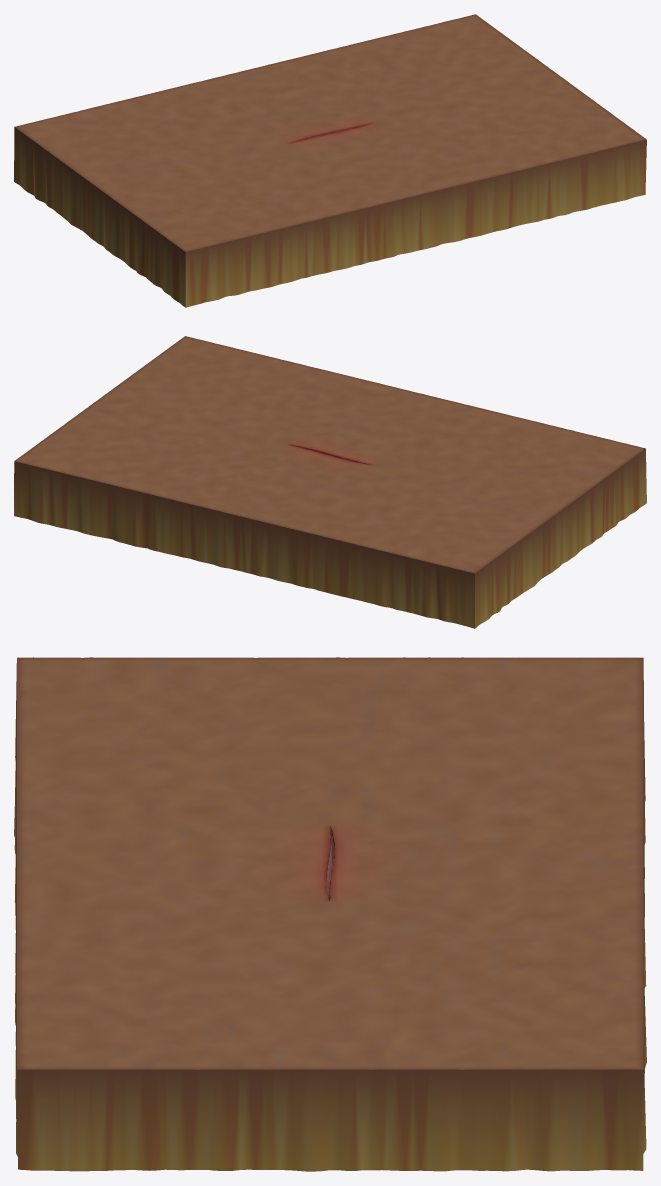
File: pad_face.glb
The picture shows the model from 3 angles, top to bottom: view 1: azimuth 30°, elevation 25°; view 2: azimuth 150°, elevation 25°; view 3: azimuth 270°, elevation 25°; orthographic projection. The views are drawn at different scales.
Visible parts, largest first — view 1: pad_face; view 2: pad_face; view 3: pad_face.
Part boxes in pixels (bbox=[...]): pad_face: bbox=[14, 14, 646, 307]; pad_face: bbox=[14, 336, 646, 628]; pad_face: bbox=[14, 657, 646, 1171].
Bounding box in the file's own units: 14.08 × 1.61 × 9.09.
